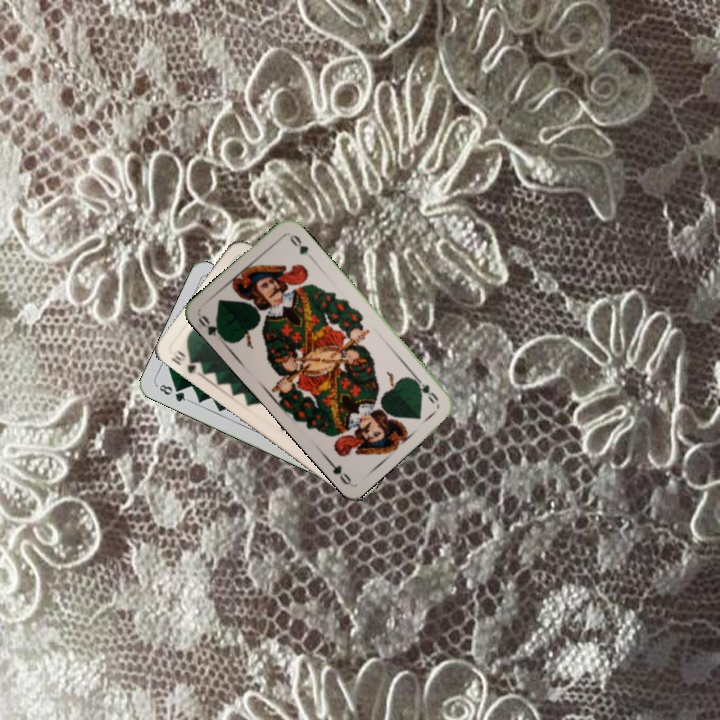G10: (167, 345, 202, 377)
G8: (153, 380, 192, 404)
GO: (409, 372, 441, 406), (194, 311, 227, 343)
